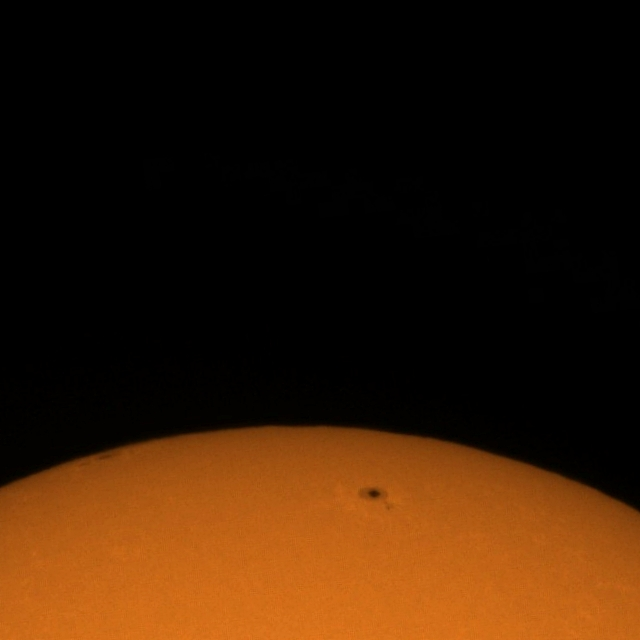sunspot: (358, 486, 394, 510)
